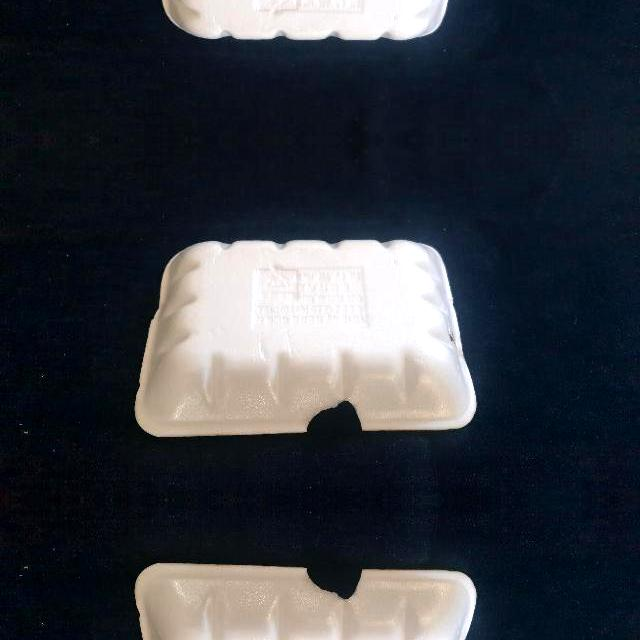Styrofoam: (135, 240, 478, 436), (135, 240, 477, 436), (134, 564, 477, 640), (135, 564, 477, 640), (134, 0, 477, 39)
